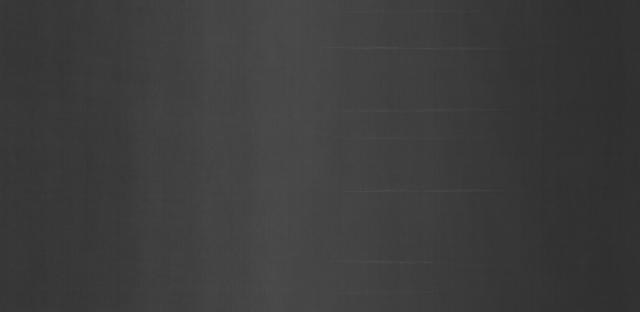waist_folding: (350, 14, 544, 297)
